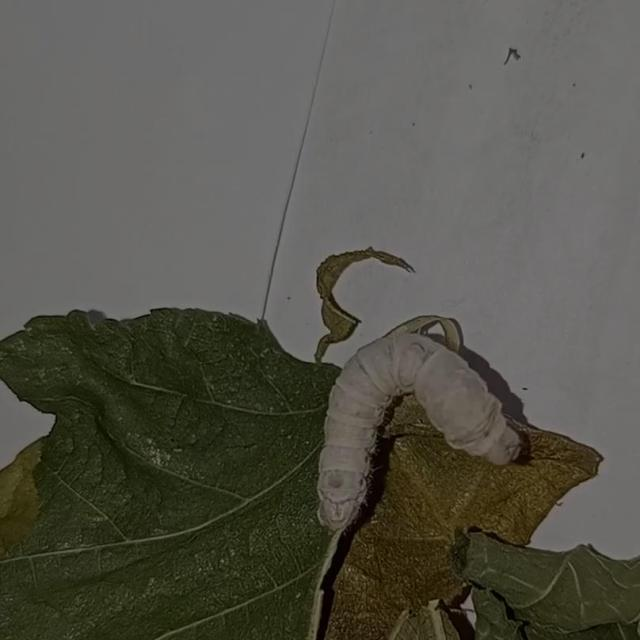Healthy: (302, 317, 532, 542)
